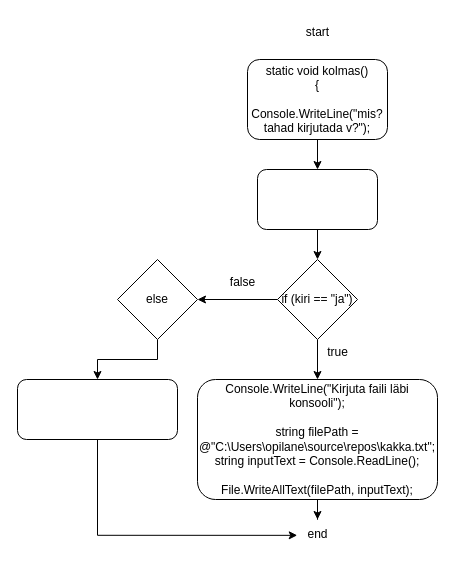
The diagram is 455 pixels wide and 566 high, and some of its shapes have lost their labels. Here are the shapes that lost their labels. From the top down, the box of each, then its label:
(256, 168, 378, 230): string kiri = Console.ReadLine();
(16, 378, 178, 440): Console.WriteLine("TÕMBA UTTU :D");
